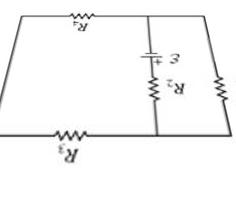resistor: (48, 123, 94, 140), (208, 68, 229, 104), (145, 72, 161, 105), (66, 7, 100, 18)
